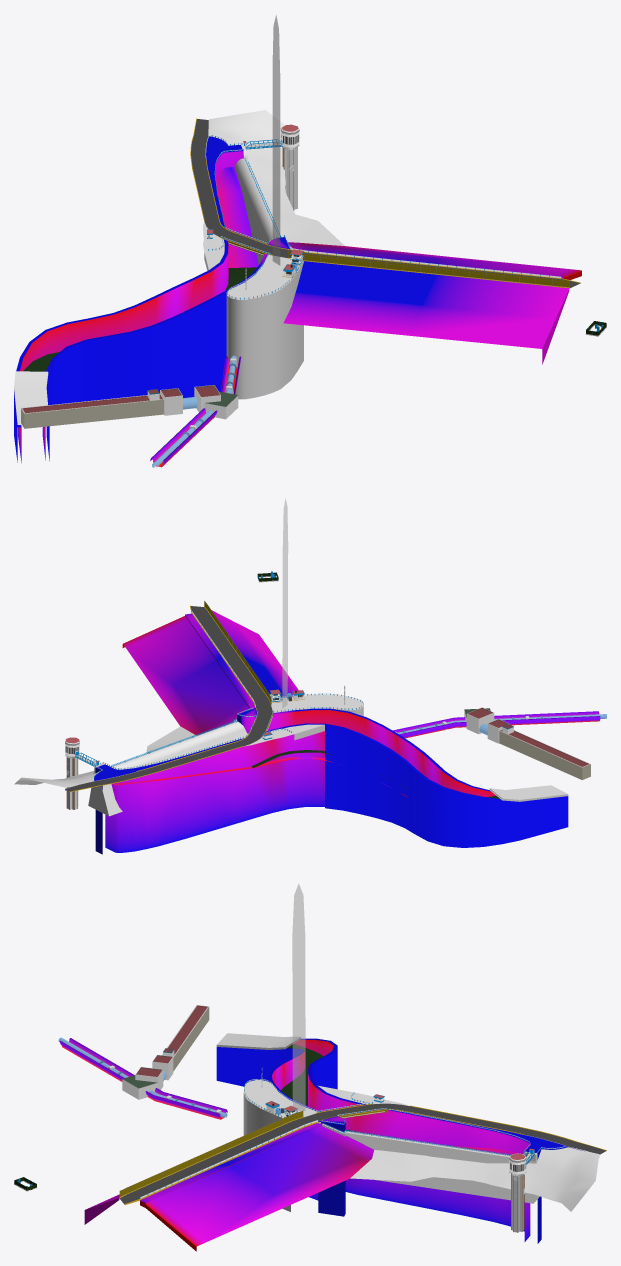
File: Msh_Sitio_04.glb
3 views of the same model, one above another, from view 1: azimuth 30°, elevation 25°; view 2: azimuth 150°, elevation 25°; view 3: azimuth 270°, elevation 25° (orthographic). The views are drawn at different scales.
Visible parts, largest first — view 1: Msh_Sitio_04, Msh_LightBeam, Msh_Sitio_AguaCanal; view 2: Msh_Sitio_04, Msh_LightBeam; view 3: Msh_Sitio_04, Msh_LightBeam, Msh_Sitio_AguaCanal.
Part boxes in pixels (x1,y1,x2,y2): Msh_Sitio_04: (14, 110, 606, 467); Msh_LightBeam: (272, 15, 280, 265); Msh_Sitio_AguaCanal: (23, 267, 256, 371); Msh_Sitio_04: (14, 571, 606, 854); Msh_LightBeam: (282, 498, 288, 708); Msh_Sitio_04: (14, 1005, 606, 1251); Msh_LightBeam: (292, 884, 305, 1111); Msh_Sitio_AguaCanal: (281, 1044, 351, 1131).
Bounding box in the file's own units: 329 × 196 × 331.
